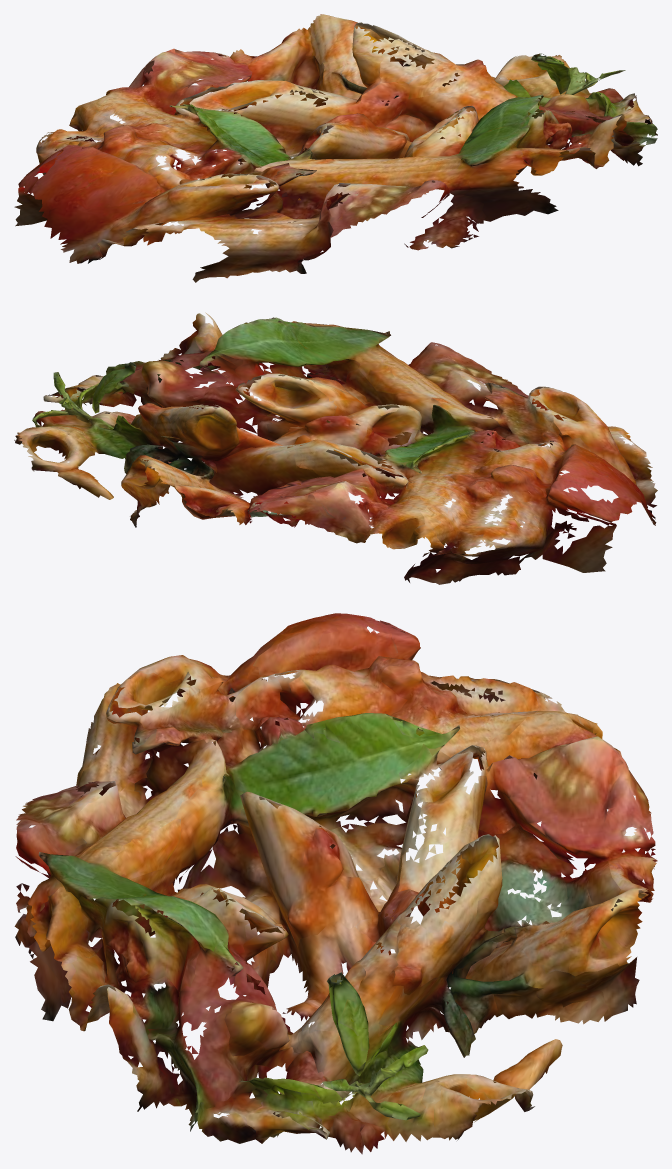
File: pasta-scan-mobile.glb
The picture shows the model from 3 angles, top to bottom: view 1: azimuth 30°, elevation 25°; view 2: azimuth 150°, elevation 25°; view 3: azimuth 270°, elevation 25°; orthographic projection. The views are drawn at different scales.
Visible parts, largest first — view 1: Scanned cooked pasta filling; view 2: Scanned cooked pasta filling; view 3: Scanned cooked pasta filling.
Boxes of the visible parts, left/top/right/bottom form: Scanned cooked pasta filling: left=14, top=14, right=657, bottom=282; Scanned cooked pasta filling: left=14, top=312, right=657, bottom=584; Scanned cooked pasta filling: left=14, top=613, right=657, bottom=1154.
Size of the model in its own units: 0.1558 by 0.025 by 0.094.
1 material, 1 textured.
